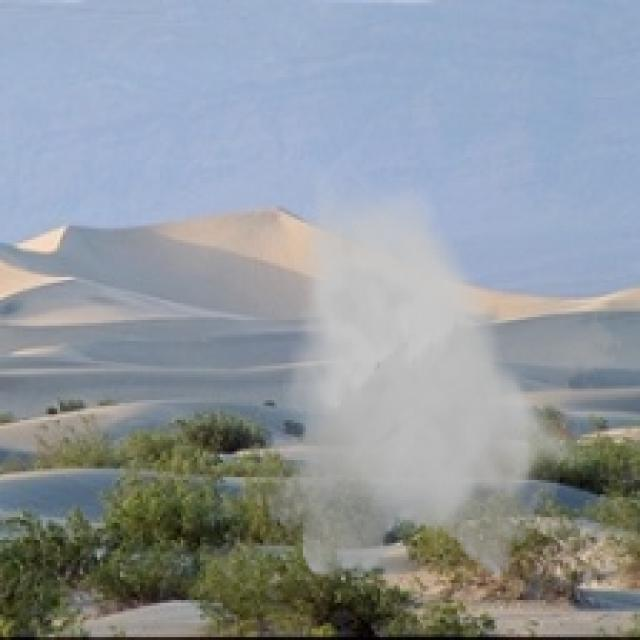smoke: (254, 172, 626, 588)
